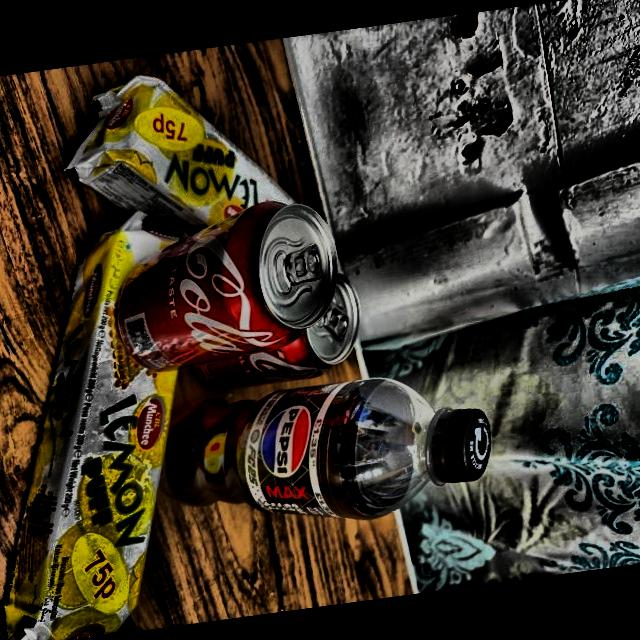coke-can: (114, 207, 344, 377), (192, 286, 360, 387)
lemon puff: (0, 214, 204, 640), (72, 83, 322, 245)
pepsi-bottle: (180, 388, 492, 512)
